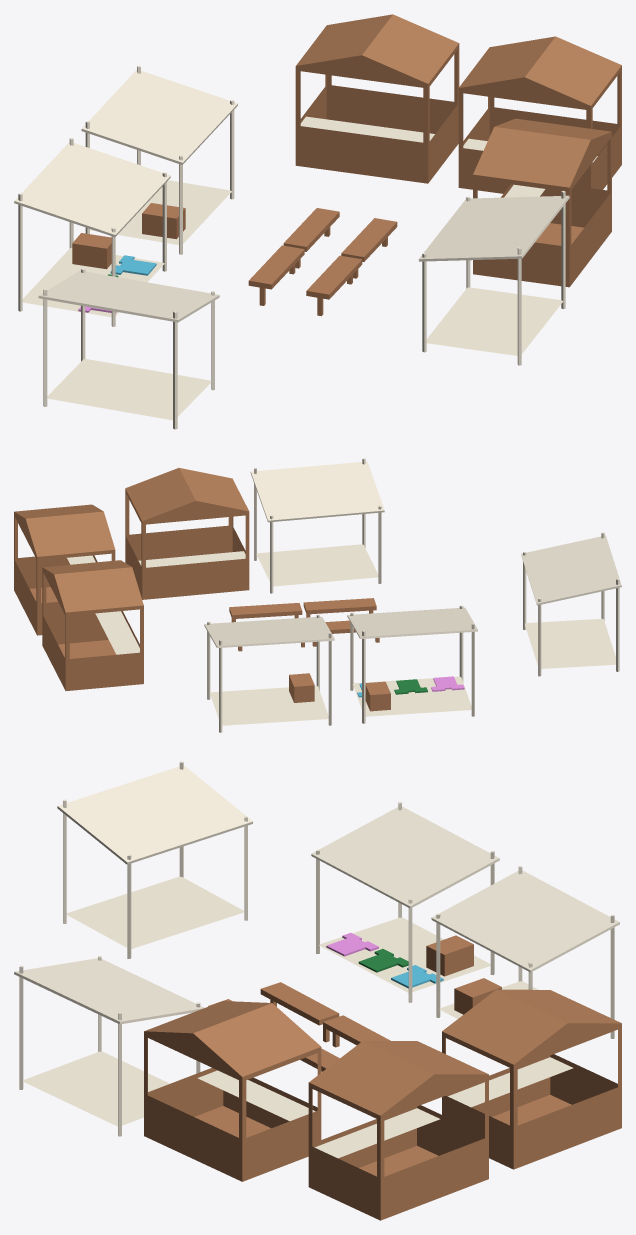
The model's file is 091_マルシェ.glb.
3 renders of one model, top to bottom at view 1: azimuth 30°, elevation 25°; view 2: azimuth 150°, elevation 25°; view 3: azimuth 270°, elevation 25°, orthographic. The views are drawn at different scales.
Parts seen in each view (by area): view 1: 平面011, 平面011_1, 平面011_2; view 2: 平面011_1, 平面011; view 3: 平面011, 平面011_1, 平面011_3, 平面011_4.
Boxes of the visible parts, box(x1,y1,x2,y2) form: 平面011: box(72, 14, 621, 316); 平面011_1: box(14, 65, 597, 429); 平面011_2: box(110, 255, 156, 275); 平面011_1: box(67, 458, 621, 732); 平面011: box(14, 468, 390, 711); 平面011: box(144, 935, 621, 1220); 平面011_1: box(14, 761, 619, 1158); 平面011_3: box(326, 932, 378, 956); 平面011_4: box(358, 949, 408, 972).
Size of the model in its own units: 14.92 by 2.69 by 11.03.
